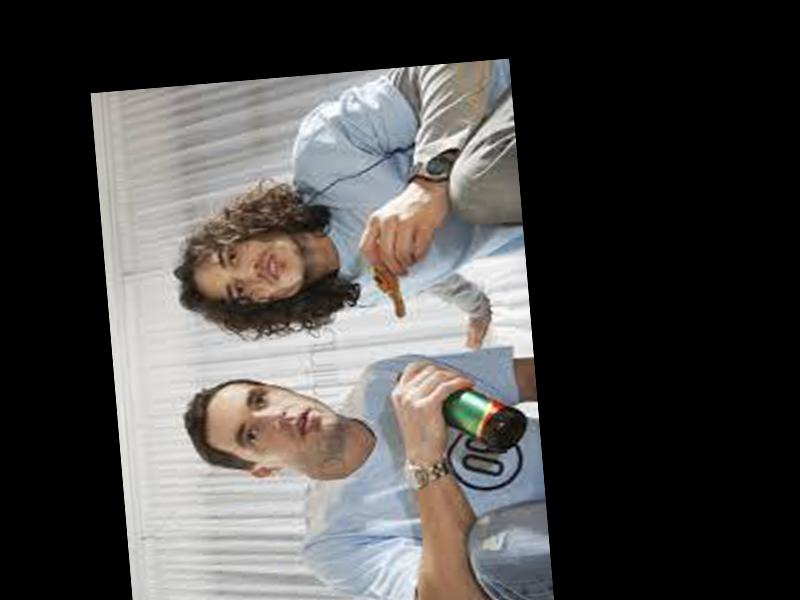Beer: (395, 362, 530, 462)
